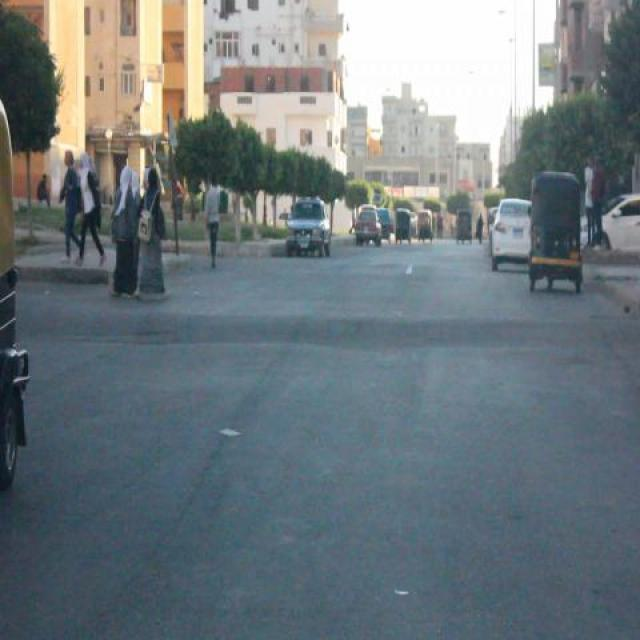Unmarked Bump: (20, 307, 639, 352)
